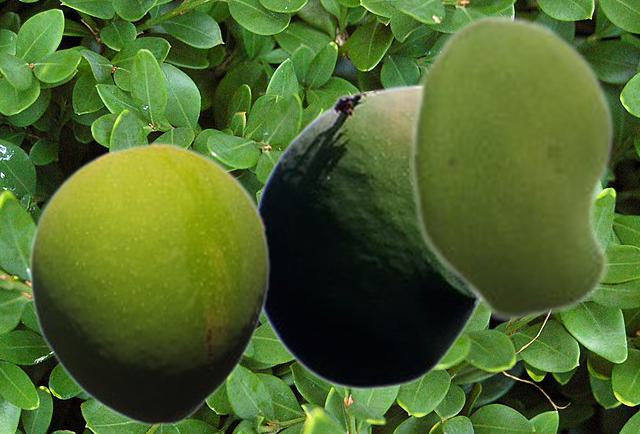green_mango: (255, 83, 480, 389), (28, 142, 270, 426), (409, 13, 615, 323)
